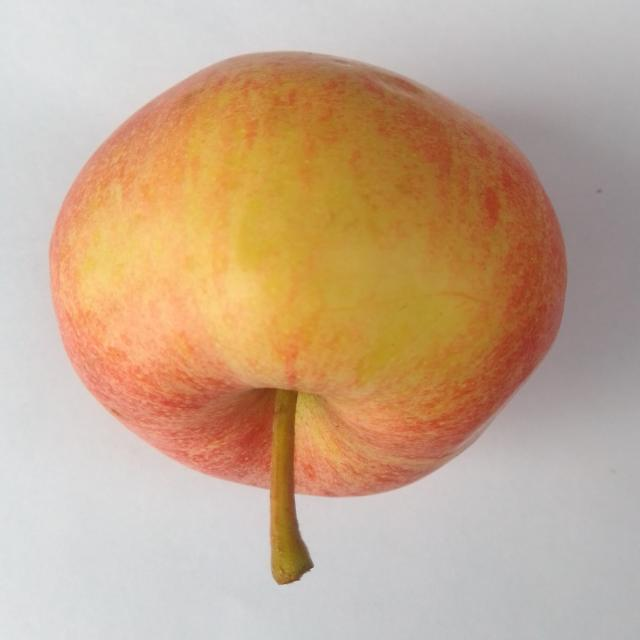apple: (51, 53, 566, 538)
